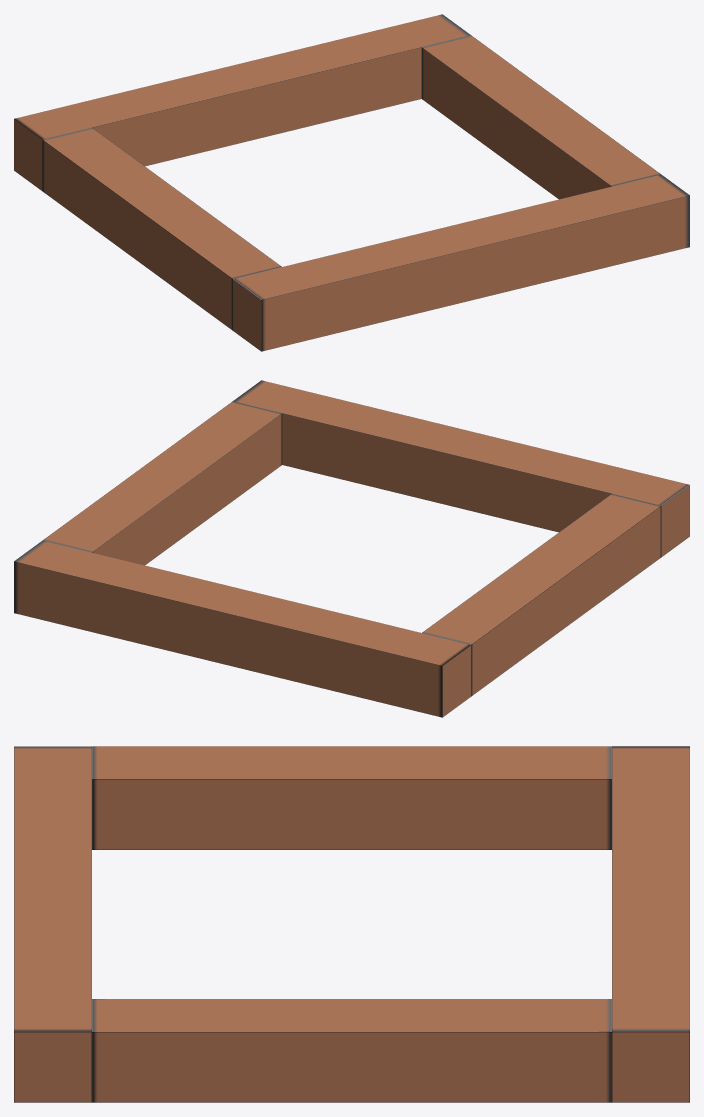
The model's file is SwitchBorder.obj.
The picture shows the model from 3 angles, top to bottom: view 1: azimuth 30°, elevation 25°; view 2: azimuth 150°, elevation 25°; view 3: azimuth 270°, elevation 25°; orthographic projection. The views are drawn at different scales.
Visible parts, largest first — view 1: Cube.004, Cube.003, Cube.001, Cube.002; view 2: Cube.003, Cube.004, Cube.001, Cube.002; view 3: Cube.001, Cube.002, Cube.003, Cube.004.
Boxes of the visible parts, x1,y1,x2,y2 form: Cube.004: [233, 174, 689, 351]; Cube.003: [14, 14, 470, 191]; Cube.001: [42, 127, 281, 330]; Cube.002: [421, 35, 660, 199]; Cube.003: [14, 540, 470, 717]; Cube.004: [233, 380, 689, 557]; Cube.001: [422, 493, 661, 696]; Cube.002: [43, 401, 282, 565]; Cube.001: [92, 746, 611, 849]; Cube.002: [92, 999, 611, 1102]; Cube.003: [612, 746, 689, 1102]; Cube.004: [14, 746, 91, 1102].
Size of the model in its own units: 2.6 by 0.3 by 2.6.
